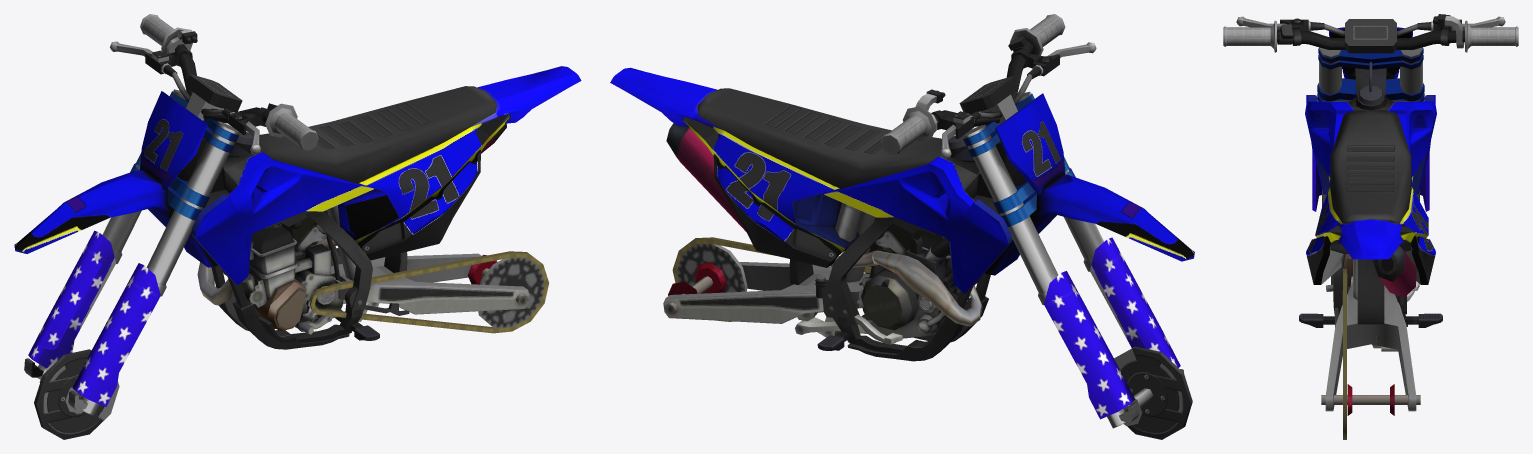
The model's file is Body_Husky.fbx.
The picture shows the model from 3 angles, left to right: view 1: azimuth 30°, elevation 25°; view 2: azimuth 150°, elevation 25°; view 3: azimuth 270°, elevation 25°; orthographic projection. The views are drawn at different scales.
Visible parts, largest first — view 1: Husky_Engine.001, Husky_frontfork.001, Husky_rearfork.001; view 2: Husky_Engine.001, Husky_frontfork.001, Husky_rearfork.001; view 3: Husky_Engine.001, Husky_rearfork.001, Husky_frontfork.001.
Part boxes in pixels (x1=…): Husky_Engine.001: x1=14, y1=14, x2=581, y2=349; Husky_frontfork.001: x1=24, y1=230, x2=161, y2=439; Husky_rearfork.001: x1=309, y1=251, x2=548, y2=333; Husky_Engine.001: x1=610, y1=14, x2=1194, y2=361; Husky_frontfork.001: x1=1043, y1=237, x2=1192, y2=439; Husky_rearfork.001: x1=663, y1=237, x2=871, y2=323; Husky_Engine.001: x1=1223, y1=14, x2=1518, y2=351; Husky_rearfork.001: x1=1321, y1=268, x2=1420, y2=439; Husky_frontfork.001: x1=1312, y1=150, x2=1429, y2=211.
Size of the model in its own units: 157 by 88.06 by 77.7.
